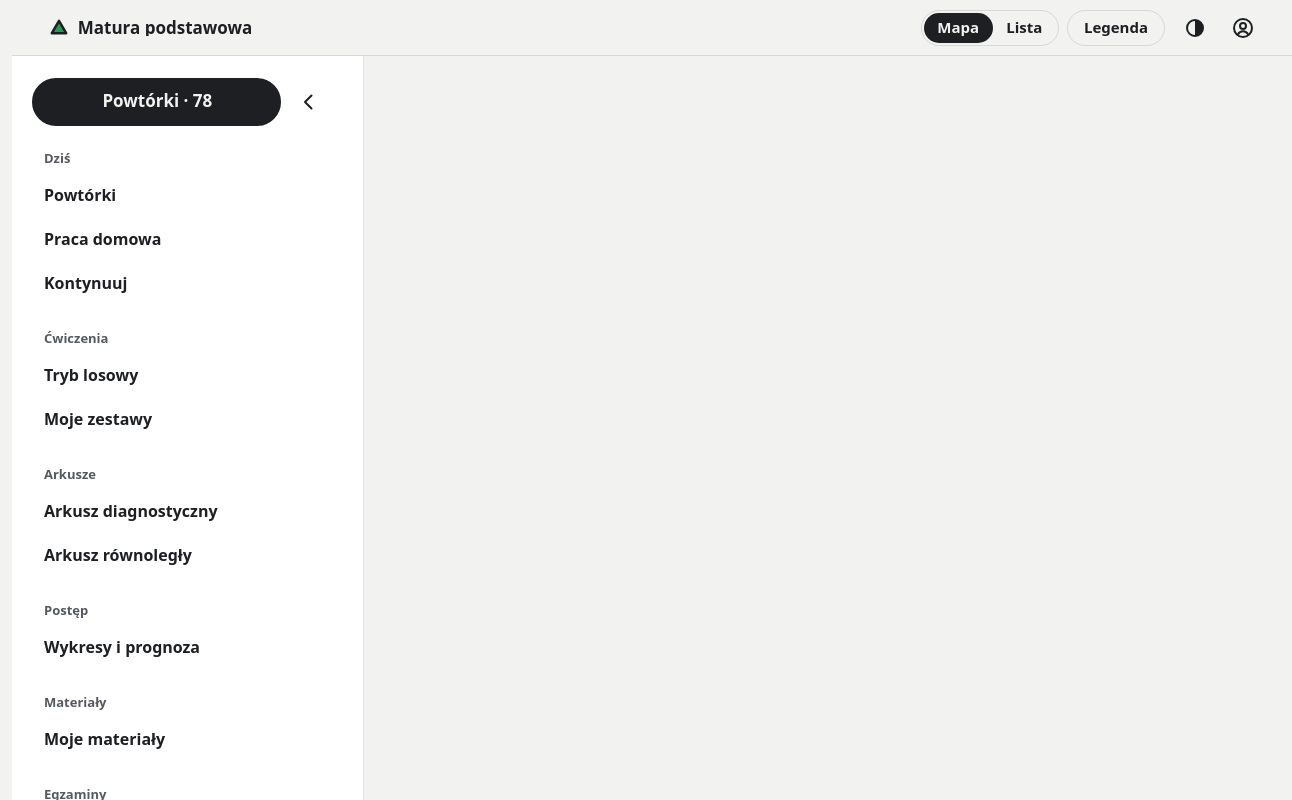
ExamView on a computer › folds the menu into a bar and unfolds it
The width and height of the screenshot is (1292, 800).
Click the button named "Zwiń menu": x=309, y=102 [287,80,331,124]
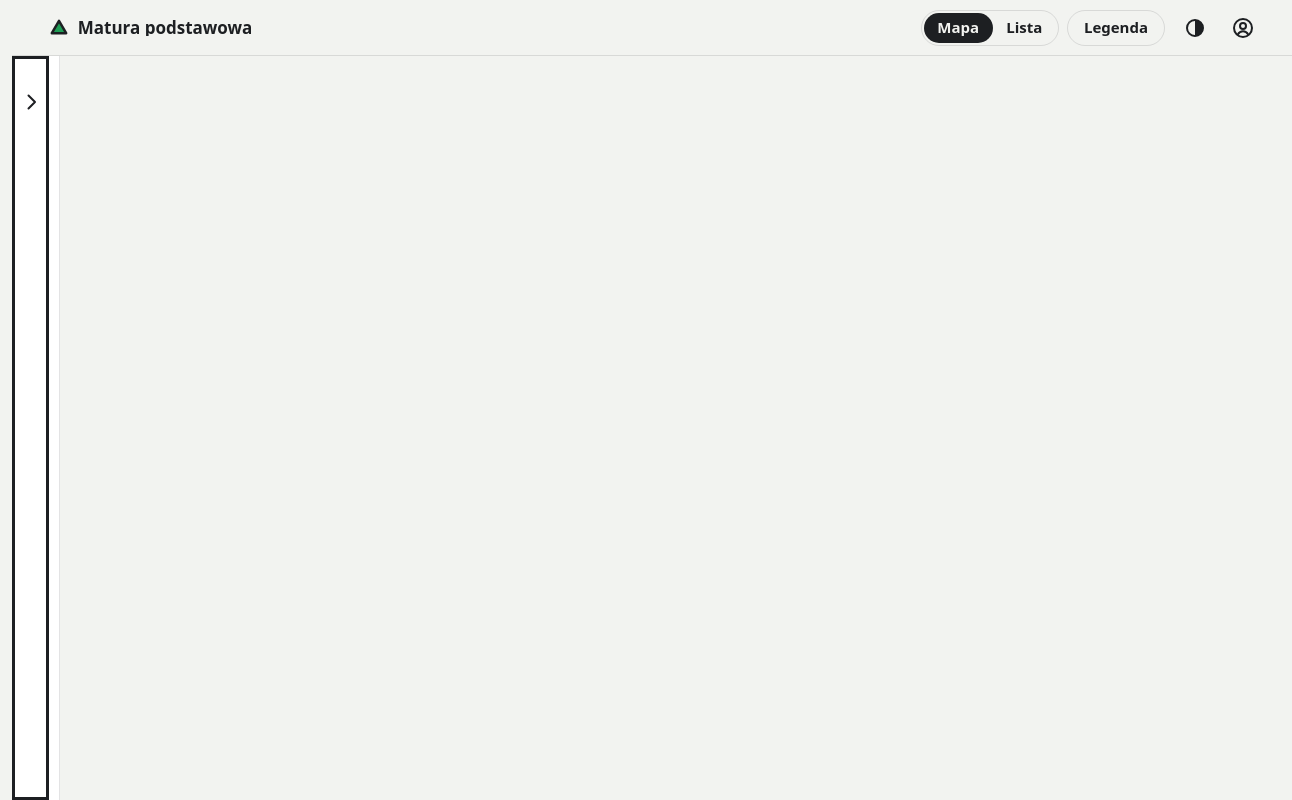
Check: the element with class "exam-side" has class "exam-side--collapsed", box [12,56,60,799]
Click the button named "Rozwiń menu": x=30, y=428 [12,56,49,799]
(page scrolled)
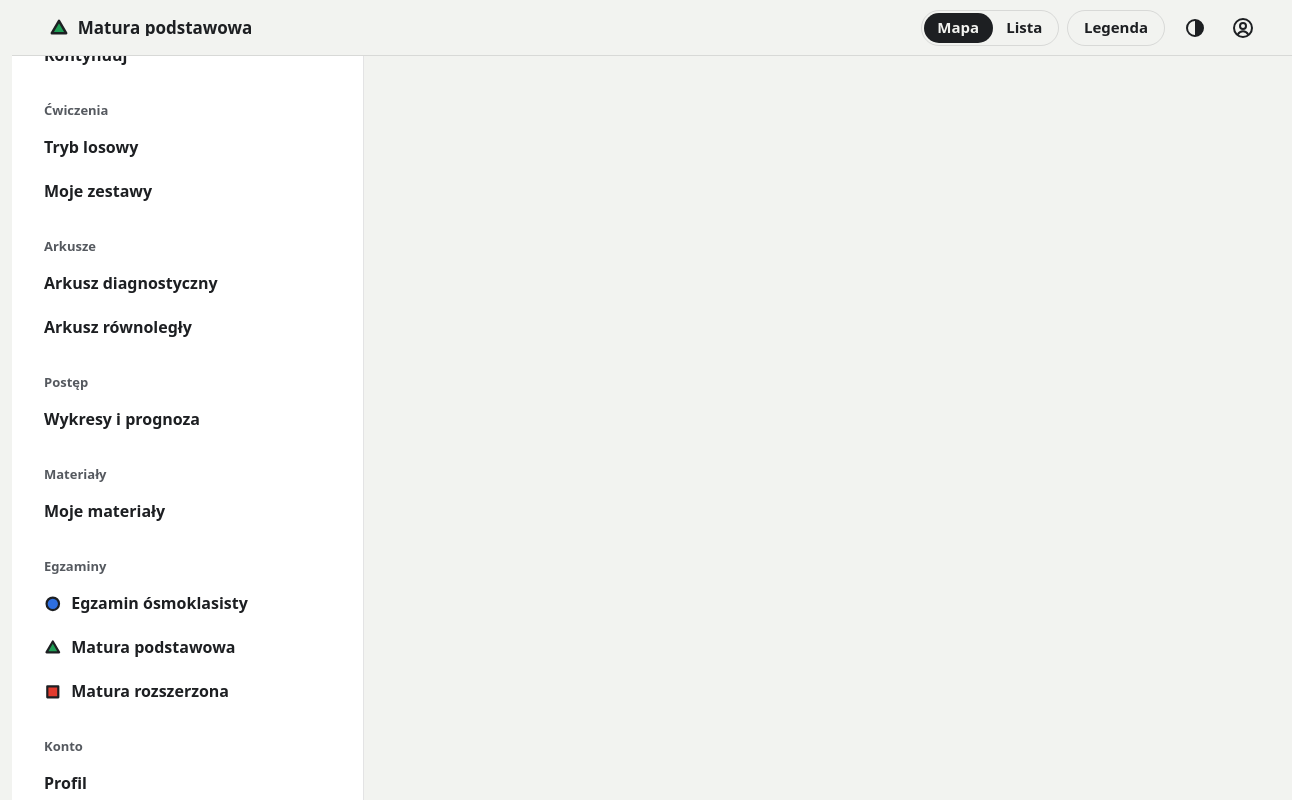
Check: the navigation bar is shown, box [44,56,248,799]
